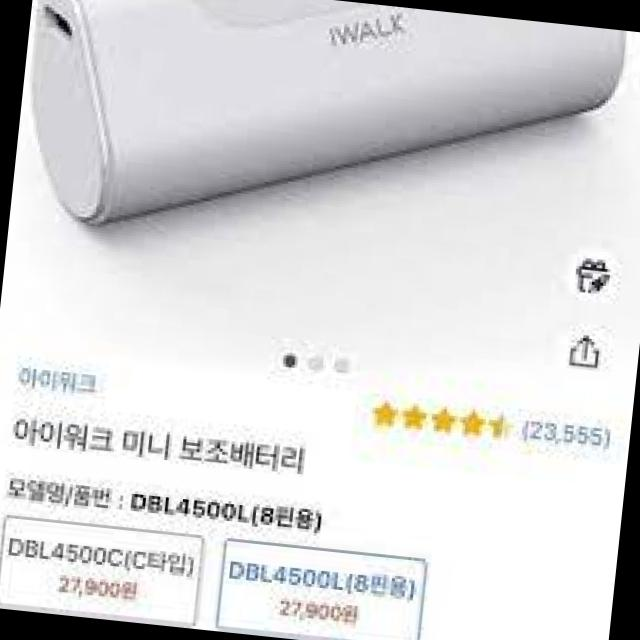portable-charger: (20, 0, 631, 285)
